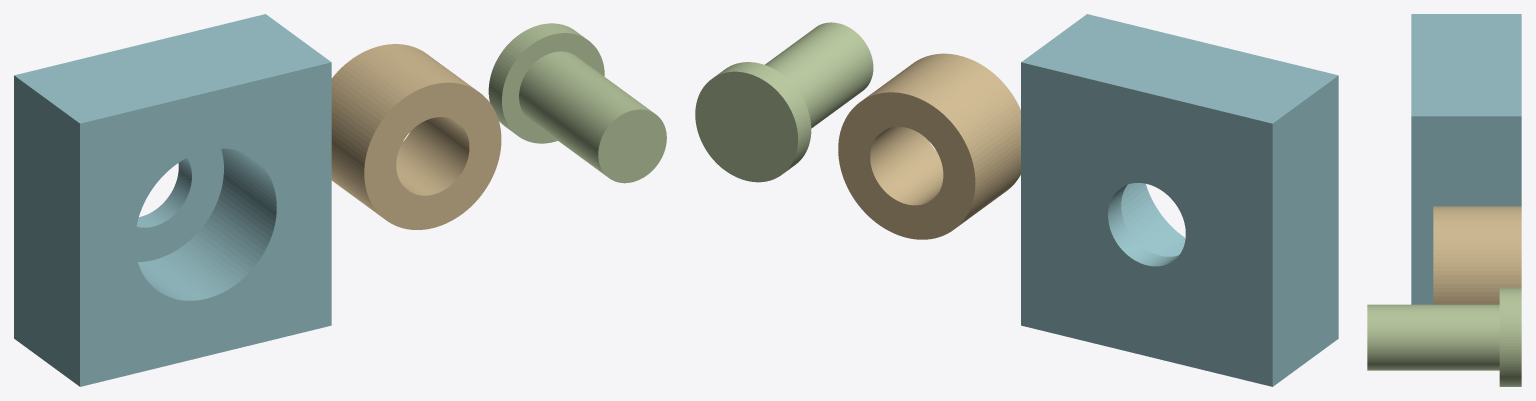
The model's file is assembly.glb.
3 renders of one model, left to right at view 1: azimuth 30°, elevation 25°; view 2: azimuth 150°, elevation 25°; view 3: azimuth 270°, elevation 25°, orthographic. The views are drawn at different scales.
Parts seen in each view (by area): view 1: housing, bushing, shaft; view 2: housing, bushing, shaft; view 3: housing, shaft, bushing.
Boxes of the visible parts, x1=… form: housing: x1=14, y1=14, x2=331, y2=386; bushing: x1=331, y1=44, x2=501, y2=229; shaft: x1=488, y1=23, x2=666, y2=183; housing: x1=1021, y1=14, x2=1338, y2=386; bushing: x1=838, y1=53, x2=1020, y2=239; shaft: x1=695, y1=22, x2=873, y2=182; housing: x1=1411, y1=14, x2=1521, y2=304; shaft: x1=1367, y1=288, x2=1521, y2=386; bushing: x1=1433, y1=206, x2=1521, y2=304.
Size of the model in its own units: 0.0505 by 0.022 by 0.014.
